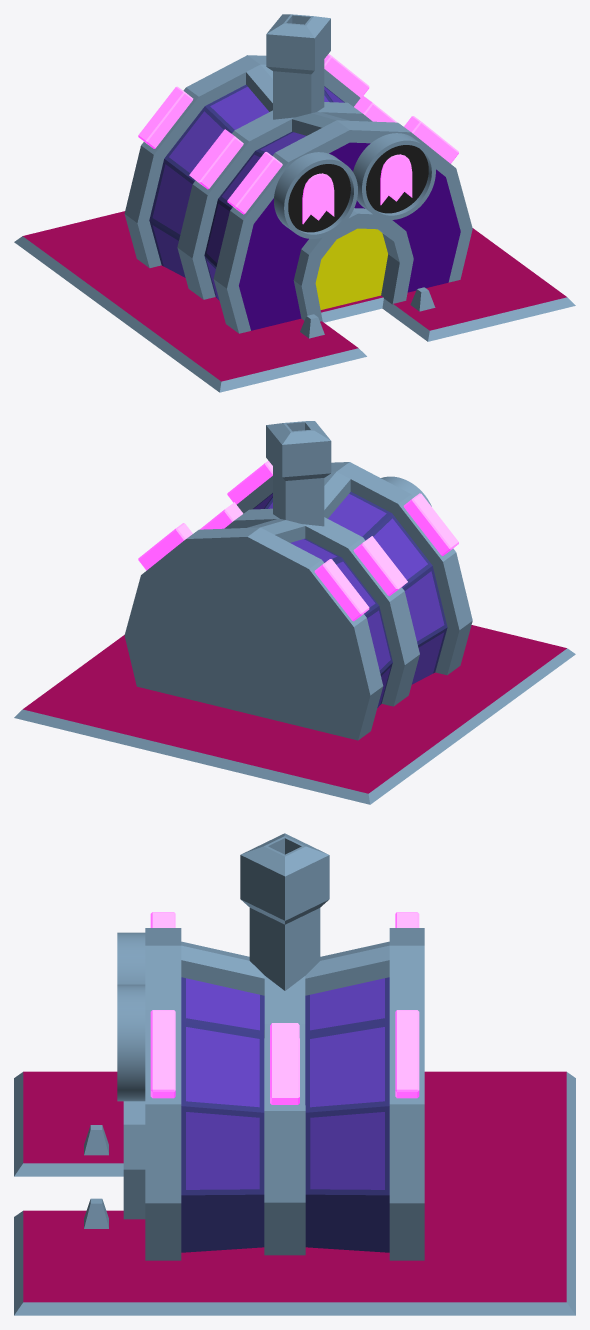
File: Lodge4.fbx
3 renders of one model, top to bottom at view 1: azimuth 30°, elevation 25°; view 2: azimuth 150°, elevation 25°; view 3: azimuth 270°, elevation 25°, orthographic. The views are drawn at different scales.
Visible parts, largest first — view 1: lodge4; view 2: lodge4; view 3: lodge4.
Boxes of the visible parts, x1,y1,x2,y2 form: lodge4: [14, 14, 575, 392]; lodge4: [14, 421, 575, 804]; lodge4: [14, 833, 575, 1315].
Size of the model in its own units: 412 by 290 by 412.
